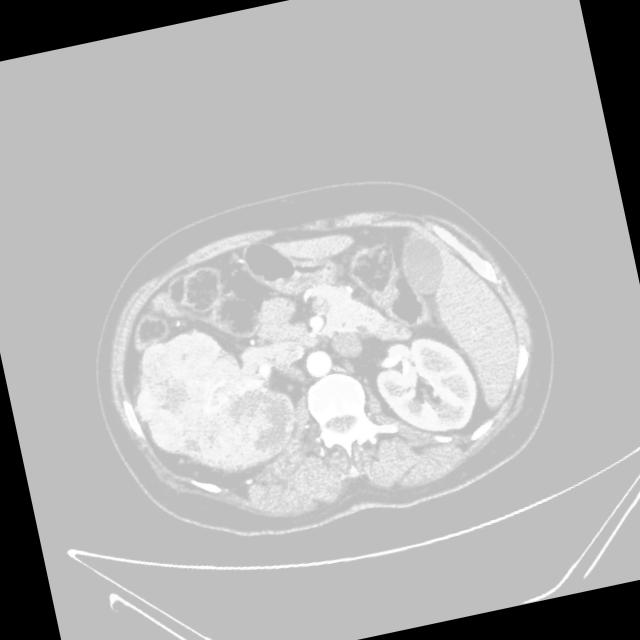TUMOR: (119, 290, 510, 481)
